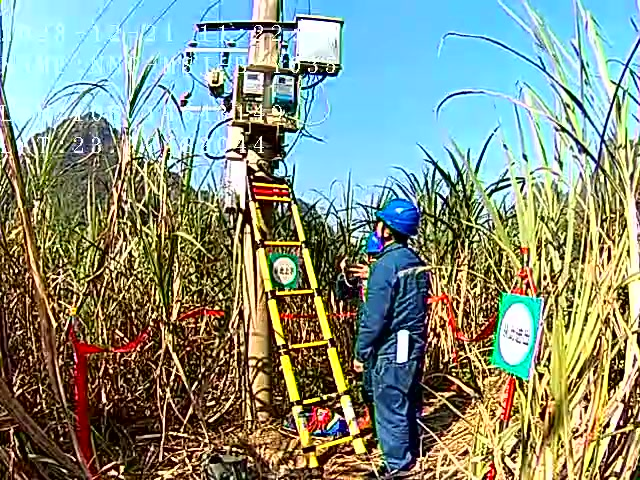halt: (378, 202, 423, 245)
